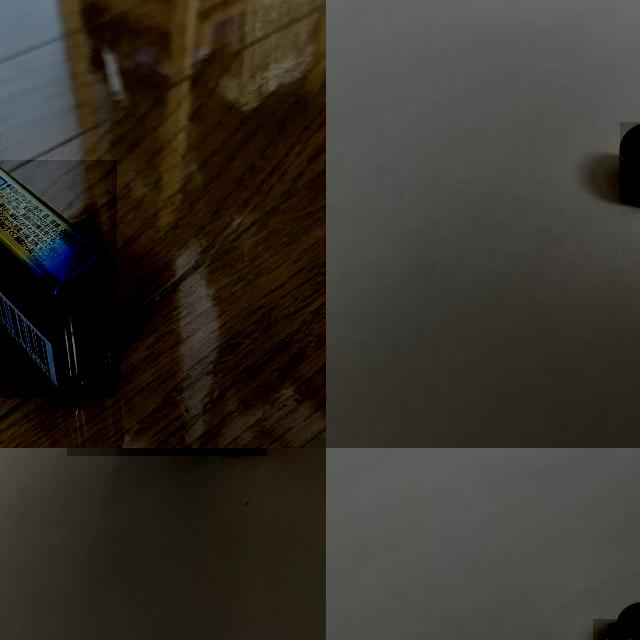9V: (0, 159, 117, 398)
